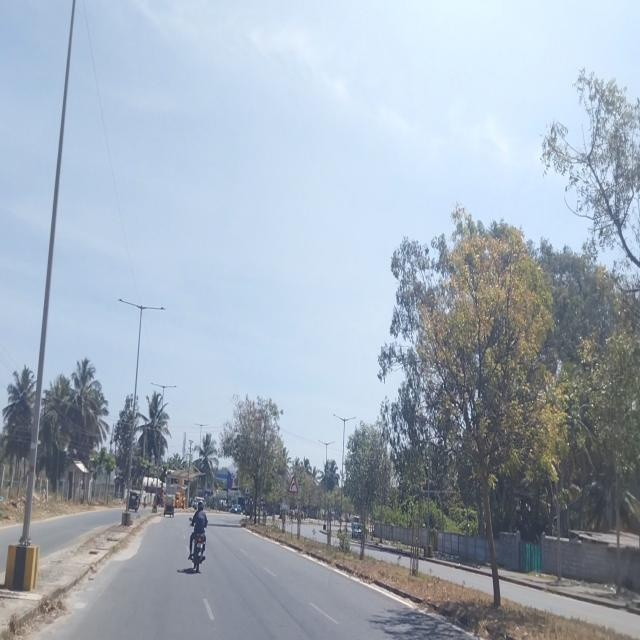bien_nguy_hiem: (287, 475, 298, 493)
